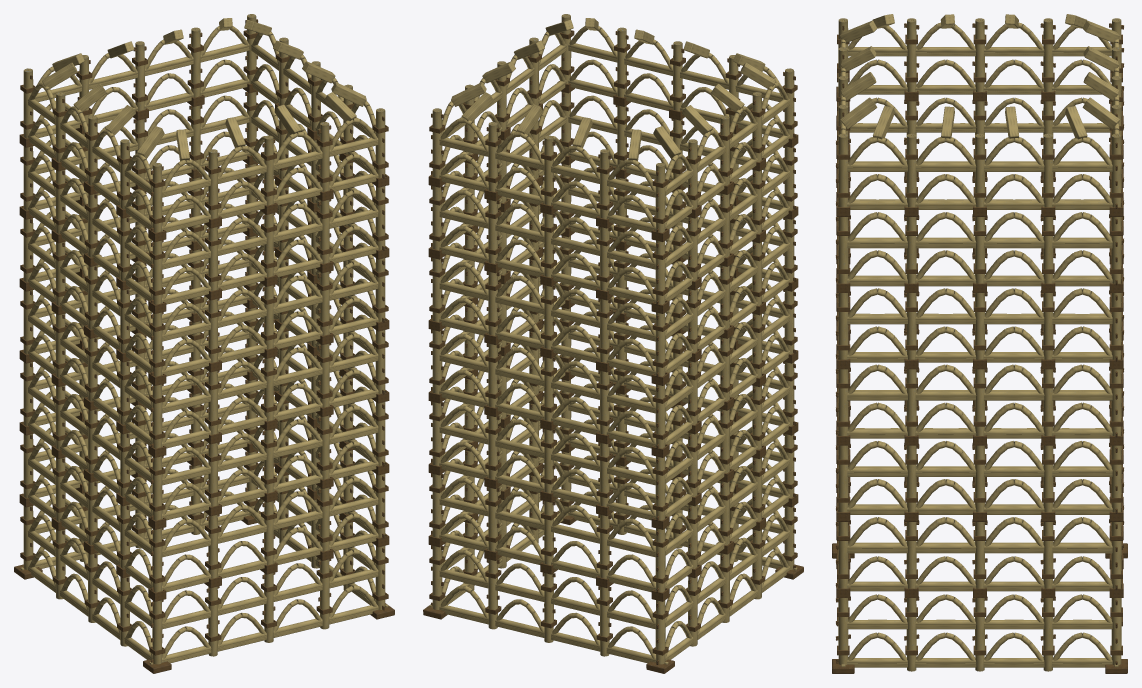
3 views of the same model, side by side, from view 1: azimuth 30°, elevation 25°; view 2: azimuth 150°, elevation 25°; view 3: azimuth 270°, elevation 25° (orthographic). The views are drawn at different scales.
Parts seen in each view (by area): view 1: Tier 6 side 0 post 0, Tier 6 side 1 post 0, Tier 6 side 2 post 1, Tier 6 side 0 post 3, Tier 6 side 0 post 2, Tier 0 side 0 post 3, Tier 6 side 2 post 2, Tier 6 side 0 post 1, Tier 0 side 0 post 2; view 2: Tier 6 side 3 post 0, Tier 6 side 2 post 0, Tier 6 side 0 post 3, Tier 6 side 2 post 1, Tier 6 side 2 post 2, Tier 0 side 2 post 1, Tier 6 side 0 post 2, Tier 6 side 2 post 3; view 3: Tier 6 side 1 post 0, Tier 6 side 2 post 0, Tier 6 side 1 post 3, Tier 6 side 3 post 1, Tier 6 side 3 post 3, Tier 0 side 1 post 3, Tier 6 side 1 post 1, Tier 0 side 1 post 1, Tier 6 side 1 post 2, Tier 2 side 1 post 0, Tier 6 side 3 post 2, Tier 0 side 1 post 0 (+31 smaller).
Boxes of the visible parts, box(x1,y1,x2,y2) form: Tier 6 side 0 post 0: box(152, 162, 162, 232); Tier 6 side 1 post 0: box(375, 108, 385, 178); Tier 6 side 2 post 1: box(191, 27, 200, 97); Tier 6 side 0 post 3: box(320, 122, 329, 191); Tier 6 side 0 post 2: box(264, 135, 273, 205); Tier 0 side 0 post 3: box(320, 559, 329, 629); Tier 6 side 2 post 2: box(135, 41, 144, 111); Tier 6 side 0 post 1: box(208, 149, 217, 219); Tier 0 side 0 post 2: box(264, 573, 273, 642); Tier 6 side 3 post 0: box(655, 162, 665, 232); Tier 6 side 2 post 0: box(432, 108, 442, 178); Tier 6 side 0 post 3: box(617, 27, 626, 97); Tier 6 side 2 post 1: box(488, 122, 497, 191); Tier 6 side 2 post 2: box(544, 135, 553, 205); Tier 0 side 2 post 1: box(488, 559, 497, 629); Tier 6 side 0 post 2: box(673, 41, 682, 111); Tier 6 side 2 post 3: box(600, 149, 609, 219); Tier 6 side 1 post 0: box(838, 133, 848, 207); Tier 6 side 2 post 0: box(1111, 133, 1121, 207); Tier 6 side 1 post 3: box(1043, 133, 1053, 207); Tier 6 side 3 post 1: box(1043, 18, 1053, 91); Tier 6 side 3 post 3: box(906, 18, 916, 91); Tier 0 side 1 post 3: box(1043, 598, 1053, 671); Tier 6 side 1 post 1: box(906, 133, 916, 207); Tier 0 side 1 post 1: box(906, 598, 916, 671); Tier 6 side 1 post 2: box(975, 133, 984, 207); Tier 2 side 1 post 0: box(838, 445, 848, 512); Tier 6 side 3 post 2: box(975, 18, 984, 91); Tier 0 side 1 post 0: box(838, 598, 848, 665).
Bounding box in the file's own units: 1.95 × 4.01 × 1.95.
2 materials, 2 textured.
